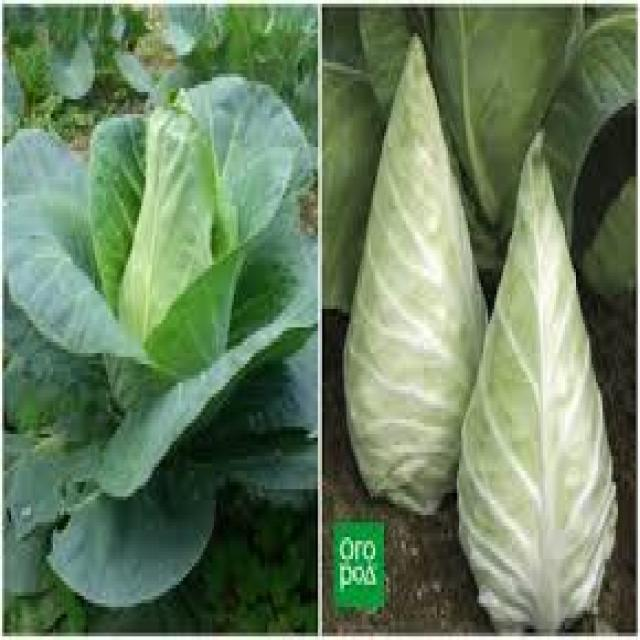cabbage: (23, 52, 277, 570), (339, 64, 508, 524), (476, 115, 619, 638)
